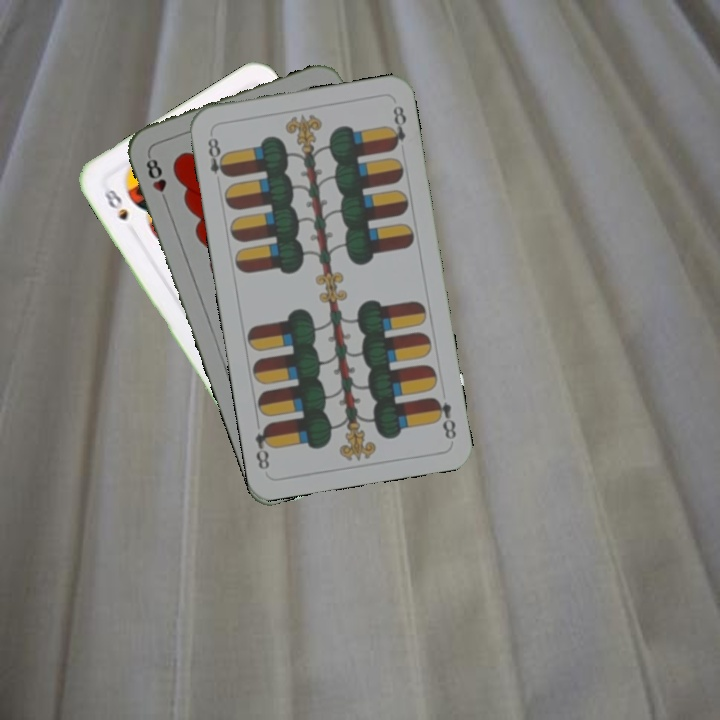E8: (429, 393, 459, 442), (204, 129, 231, 180)
H8: (142, 151, 171, 208)
S8: (97, 182, 131, 223)
